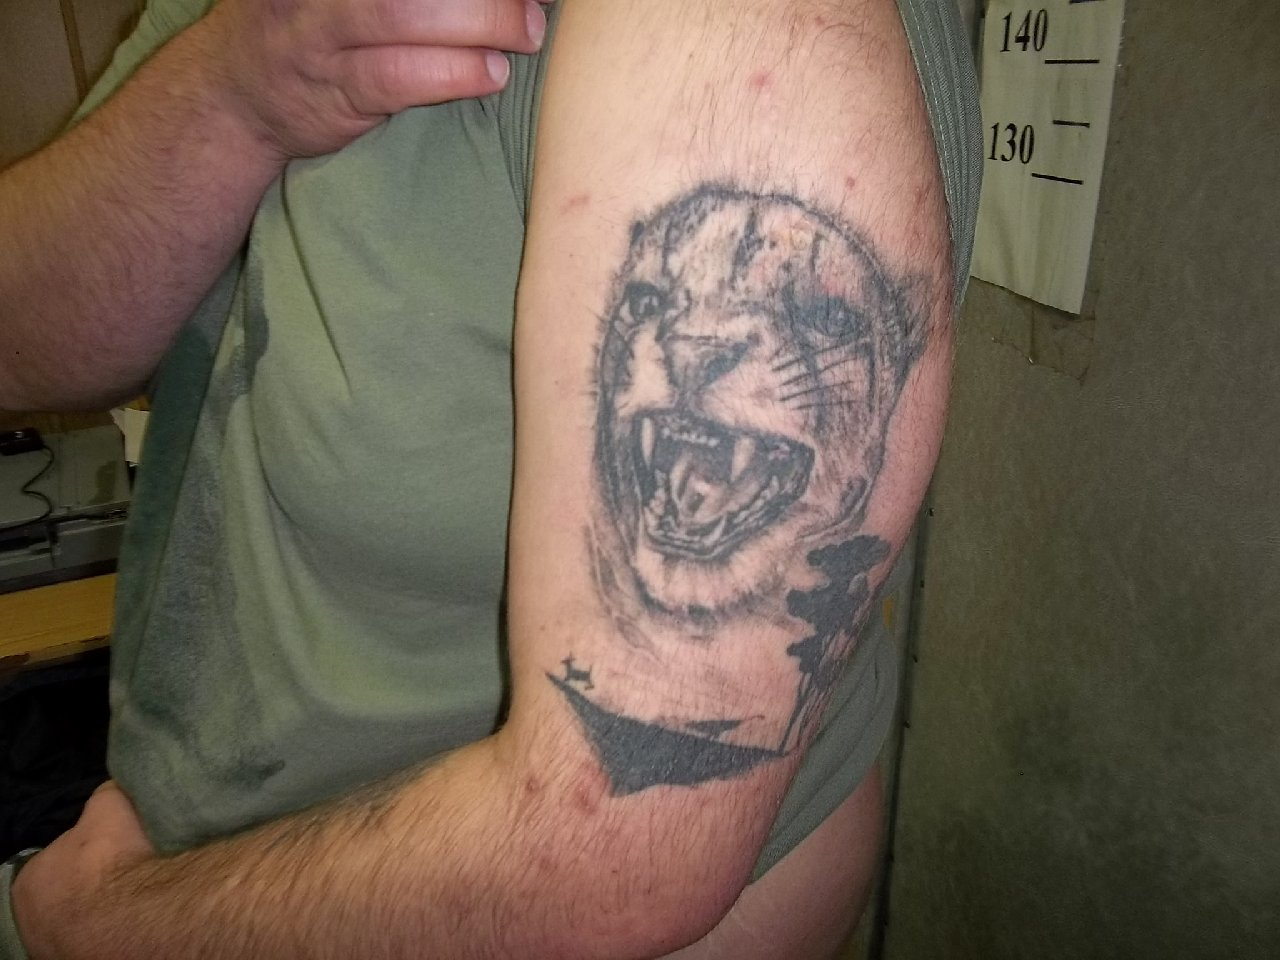tatu8_kot: (533, 111, 964, 699)
